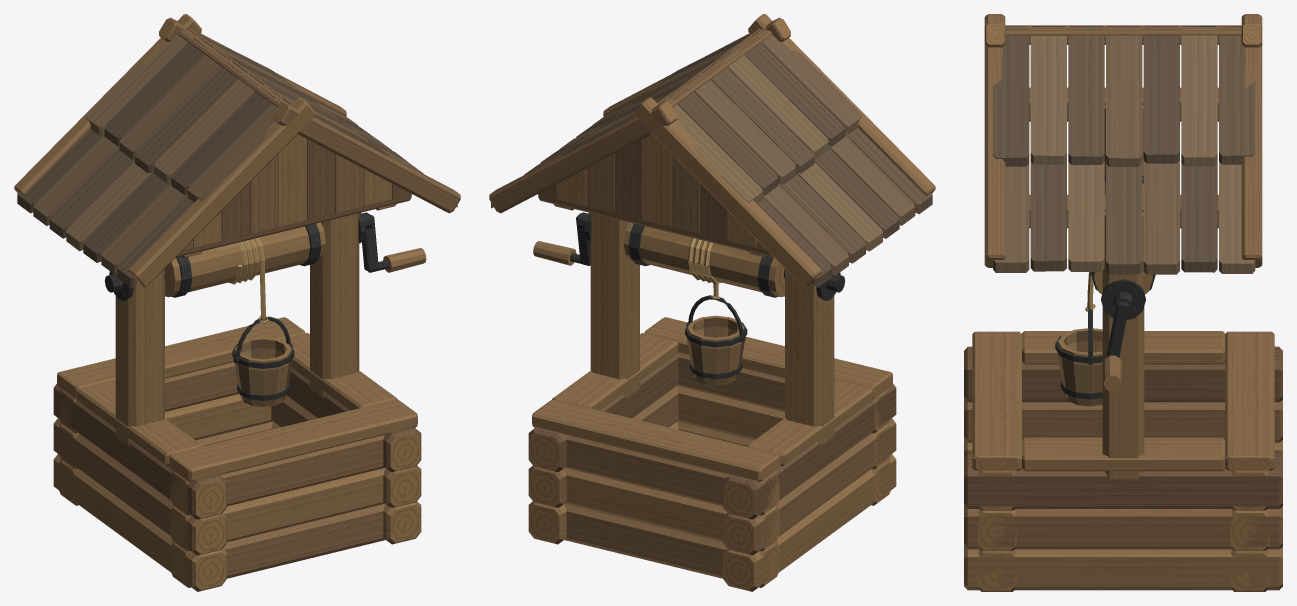
Rendered from well.glb.
3 views of the same model, side by side, from view 1: azimuth 30°, elevation 25°; view 2: azimuth 150°, elevation 25°; view 3: azimuth 270°, elevation 25° (orthographic). The views are drawn at different scales.
Parts seen in each view (by area): view 1: Well_Base, Well_Roof, Well_Frame, Well_Winch, Well_Bucket, Well_Rope; view 2: Well_Base, Well_Roof, Well_Frame, Well_Winch, Well_Bucket, Well_Rope; view 3: Well_Base, Well_Roof, Well_Frame, Well_Bucket, Well_Winch.
Boxes of the visible parts, bbox=[...] form: Well_Base: bbox=[53, 317, 421, 591]; Well_Roof: bbox=[17, 29, 457, 287]; Well_Frame: bbox=[14, 14, 460, 445]; Well_Winch: bbox=[105, 212, 426, 297]; Well_Bucket: bbox=[232, 316, 294, 406]; Well_Rope: bbox=[228, 237, 268, 323]; Well_Base: bbox=[528, 317, 896, 591]; Well_Roof: bbox=[491, 28, 932, 287]; Well_Frame: bbox=[489, 14, 935, 445]; Well_Winch: bbox=[533, 212, 844, 297]; Well_Bucket: bbox=[685, 295, 747, 385]; Well_Rope: bbox=[687, 238, 721, 299]; Well_Base: bbox=[964, 331, 1282, 591]; Well_Roof: bbox=[993, 26, 1255, 274]; Well_Frame: bbox=[984, 14, 1262, 479]; Well_Bucket: bbox=[1055, 307, 1102, 406]; Well_Winch: bbox=[1091, 173, 1155, 391].
Bounding box in the file's own units: 2.16 × 2.73 × 1.54.
Materials: 1 (1 with a texture image).
